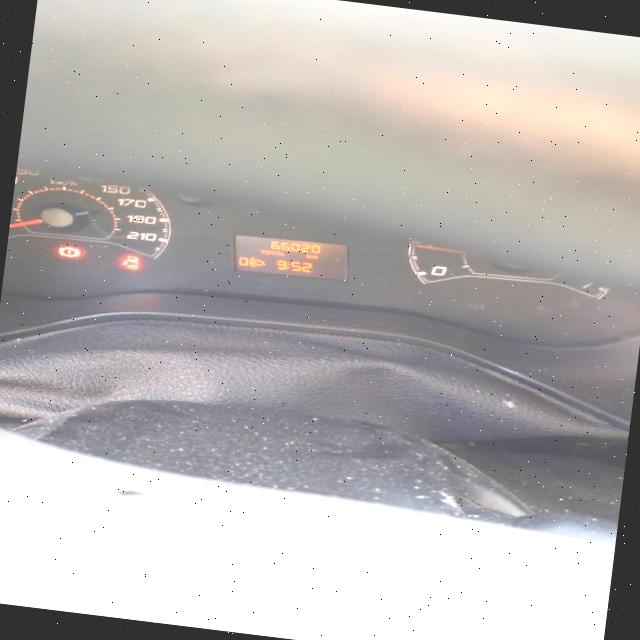odometer: (220, 226, 356, 286)
